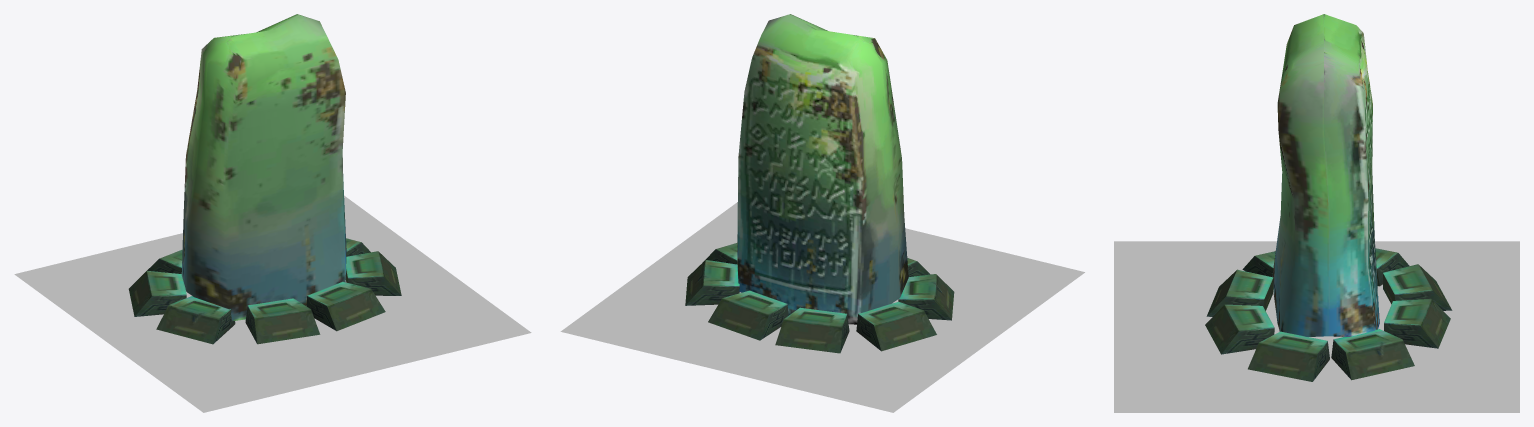
File: Gimmick_portal002.fbx
The picture shows the model from 3 angles, left to right: view 1: azimuth 30°, elevation 25°; view 2: azimuth 150°, elevation 25°; view 3: azimuth 270°, elevation 25°; orthographic projection. The views are drawn at different scales.
Parts seen in each view (by area): view 1: Gimmick_Portal002, Gimmick_HakaiTaru001_shadow; view 2: Gimmick_Portal002, Gimmick_HakaiTaru001_shadow; view 3: Gimmick_Portal002, Gimmick_HakaiTaru001_shadow.
Part boxes in pixels (x1=…): Gimmick_Portal002: x1=128, y1=14, x2=401, y2=344; Gimmick_HakaiTaru001_shadow: x1=14, y1=195, x2=531, y2=412; Gimmick_Portal002: x1=685, y1=14, x2=954, y2=353; Gimmick_HakaiTaru001_shadow: x1=560, y1=202, x2=1084, y2=412; Gimmick_Portal002: x1=1205, y1=14, x2=1452, y2=381; Gimmick_HakaiTaru001_shadow: x1=1114, y1=241, x2=1519, y2=412.
Size of the model in its own units: 1.66 by 1.35 by 1.66.
